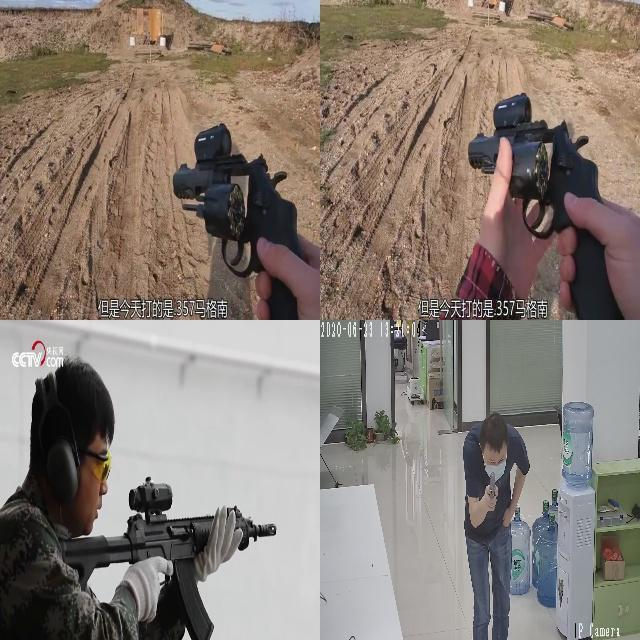gun-knife-thesis - v11 Yolov5 augmented: (52, 475, 278, 639), (457, 97, 610, 310), (170, 131, 304, 315), (486, 468, 496, 512)
